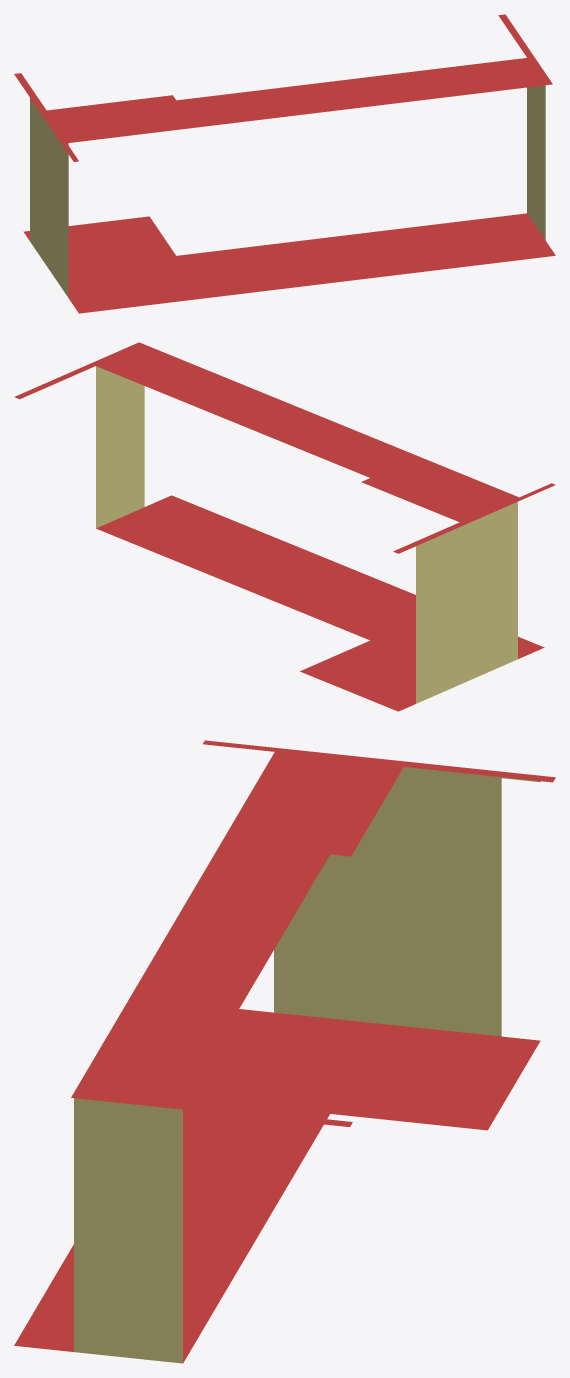
3 renders of one model, top to bottom at view 1: azimuth 30°, elevation 25°; view 2: azimuth 150°, elevation 25°; view 3: azimuth 270°, elevation 25°, orthographic. The views are drawn at different scales.
Bounding box in the file's own units: 18.12 × 10.73 × 5.67.
